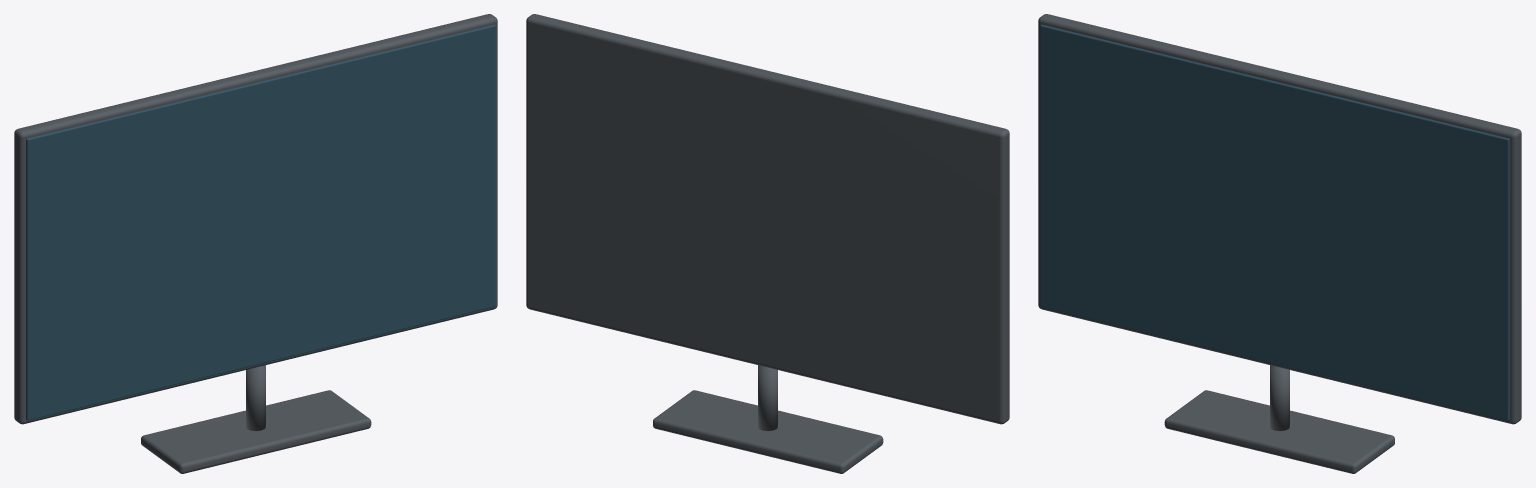
File: atelier-flat-screen-television.glb
3 renders of one model, left to right at view 1: azimuth 30°, elevation 25°; view 2: azimuth 150°, elevation 25°; view 3: azimuth 330°, elevation 25°, orthographic.
Visible parts, largest first — view 1: screen.007, metal.145; view 2: metal.145; view 3: screen.007, metal.145.
Part boxes in pixels (x1,y1,x2,y2): screen.007: (26, 24, 495, 420); metal.145: (14, 14, 497, 473); metal.145: (526, 14, 1009, 473); screen.007: (1040, 24, 1509, 420); metal.145: (1038, 14, 1521, 473).
Size of the model in its own units: 1.2 by 0.8725 by 0.18.
